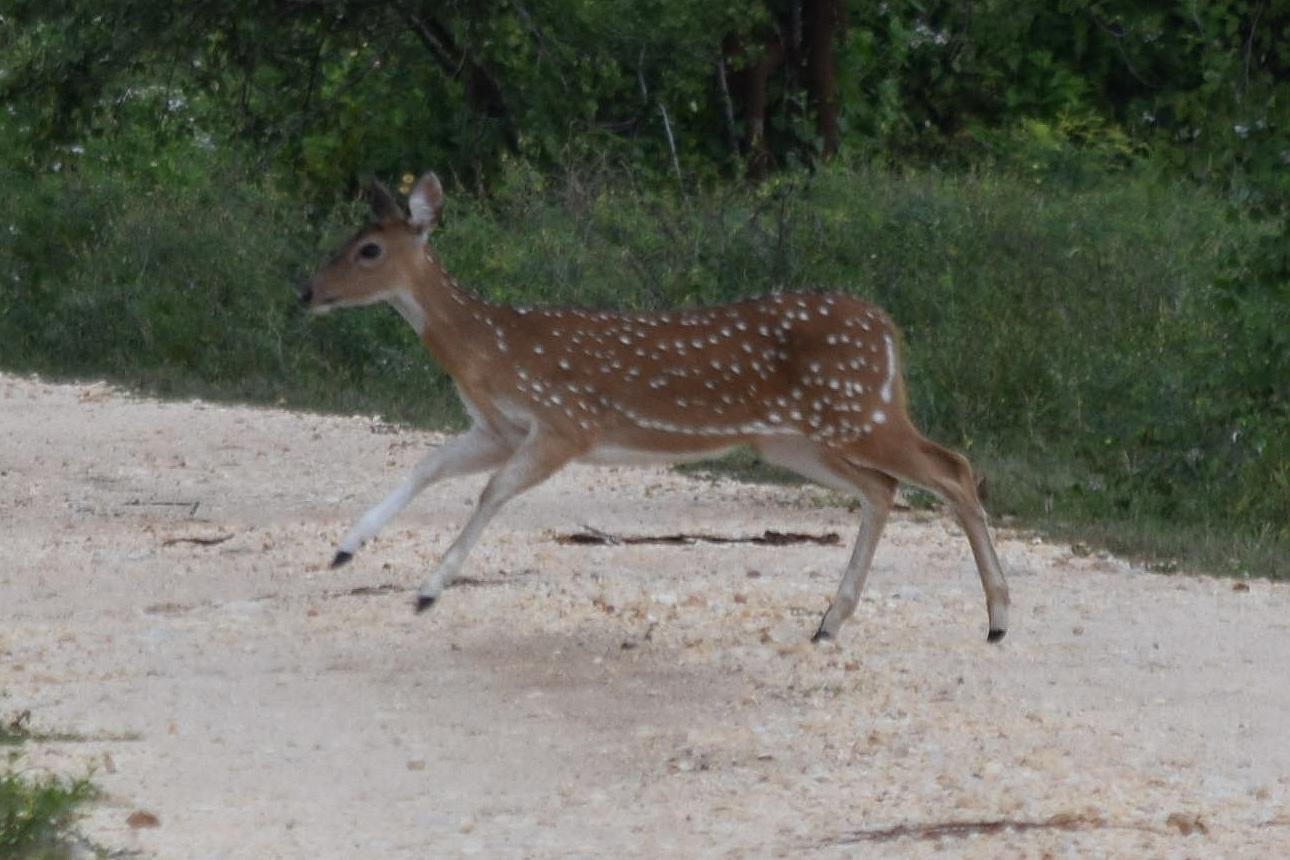Deer: (299, 171, 1010, 642)
